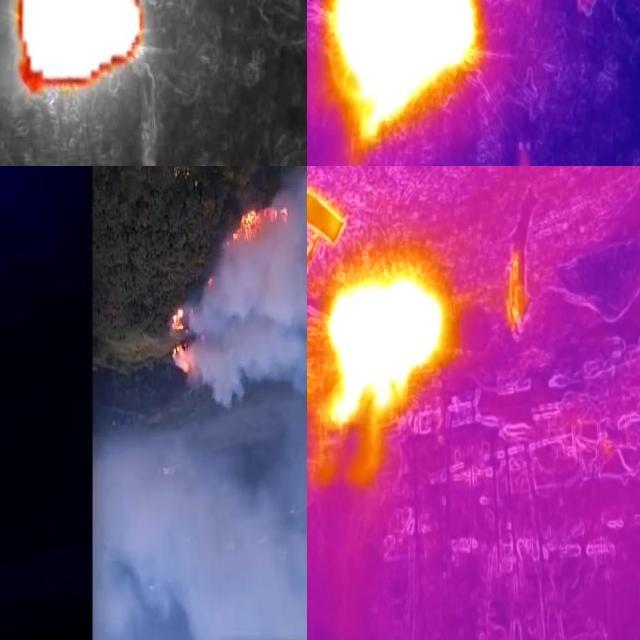fire: (322, 1, 481, 146), (322, 264, 446, 432), (14, 1, 148, 104)
